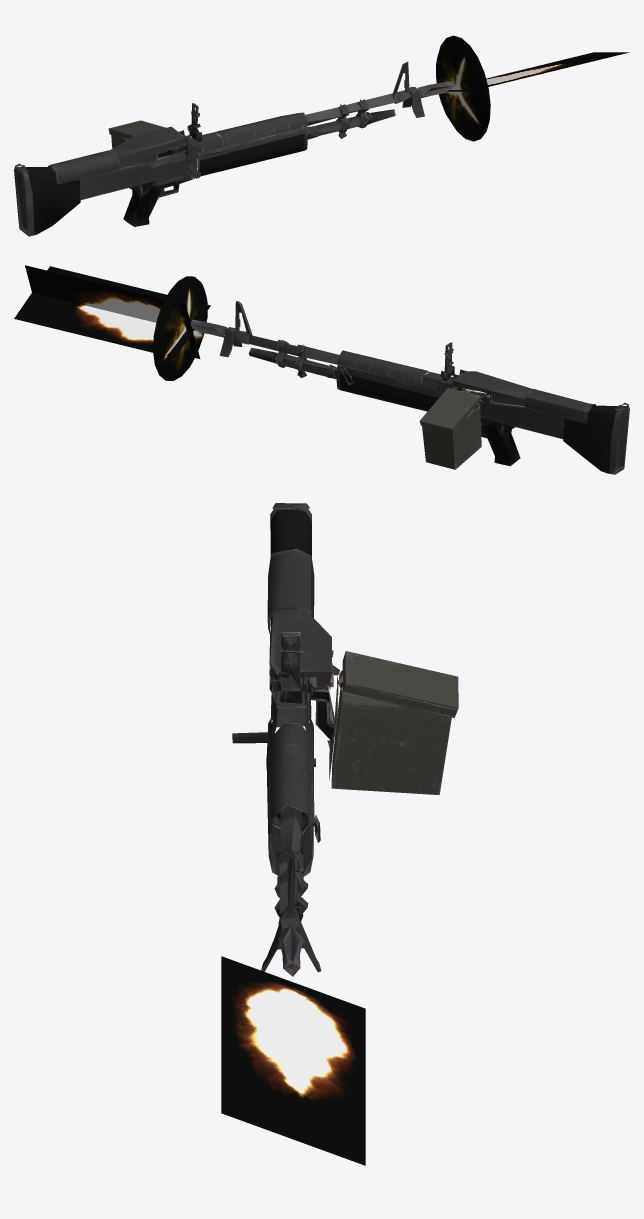
The picture shows the model from 3 angles, top to bottom: view 1: azimuth 30°, elevation 25°; view 2: azimuth 150°, elevation 25°; view 3: azimuth 270°, elevation 25°; orthographic projection. The views are drawn at different scales.
Visible parts, largest first — view 1: M60_Decimated, MuzzleFlash; view 2: M60_Decimated, MuzzleFlash; view 3: M60_Decimated, MuzzleFlash.
Part boxes in pixels (<box>): M60_Decimated: <box>14,61,454,236</box>; MuzzleFlash: <box>436,35,629,141</box>; M60_Decimated: <box>190,301,629,474</box>; MuzzleFlash: <box>14,265,210,380</box>; M60_Decimated: <box>232,503,458,976</box>; MuzzleFlash: <box>221,956,365,1165</box>.
Bounding box in the file's own units: 1.58 × 0.2693 × 0.3144.
Materials: 2 (2 with a texture image).
